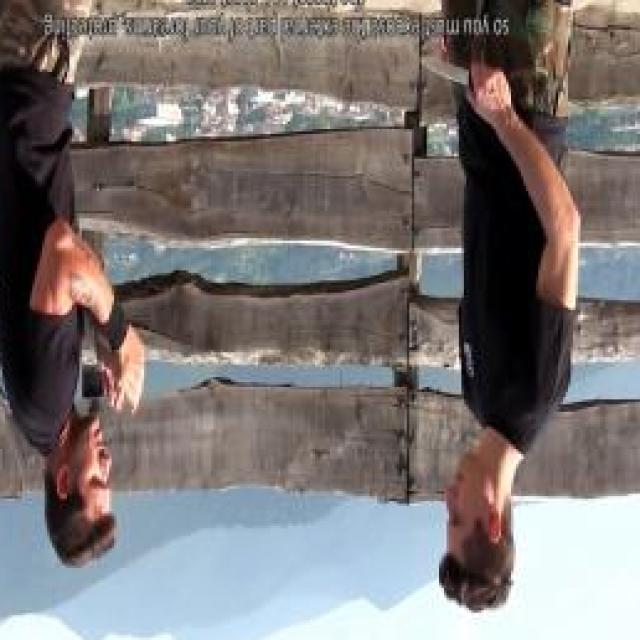knife: (409, 46, 511, 116)
